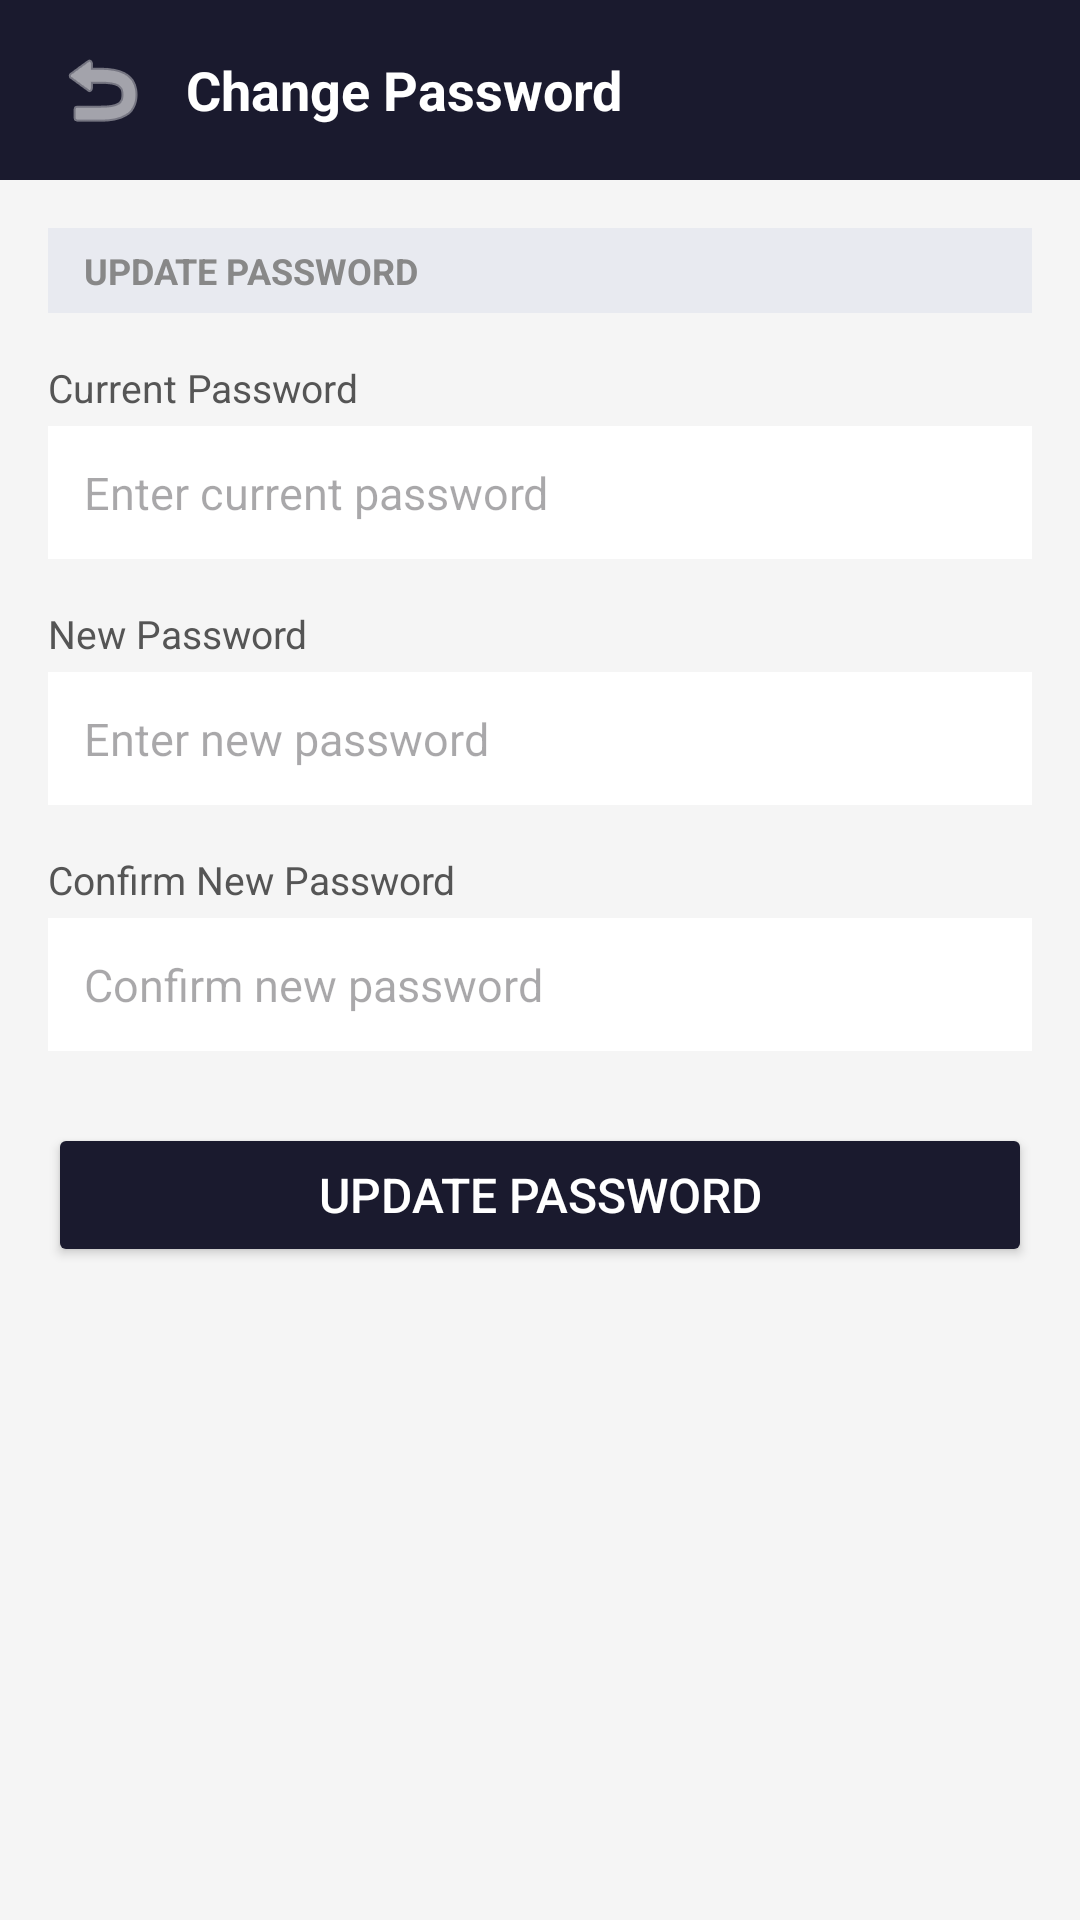

Named icons in this screenshot (1080×1920) and their centers, [x,y]:
Back: [103,90]
